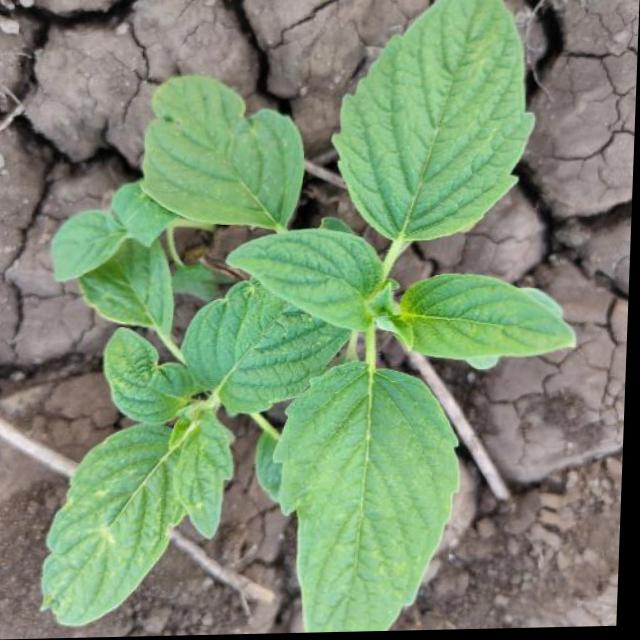crop: (31, 0, 595, 639)
